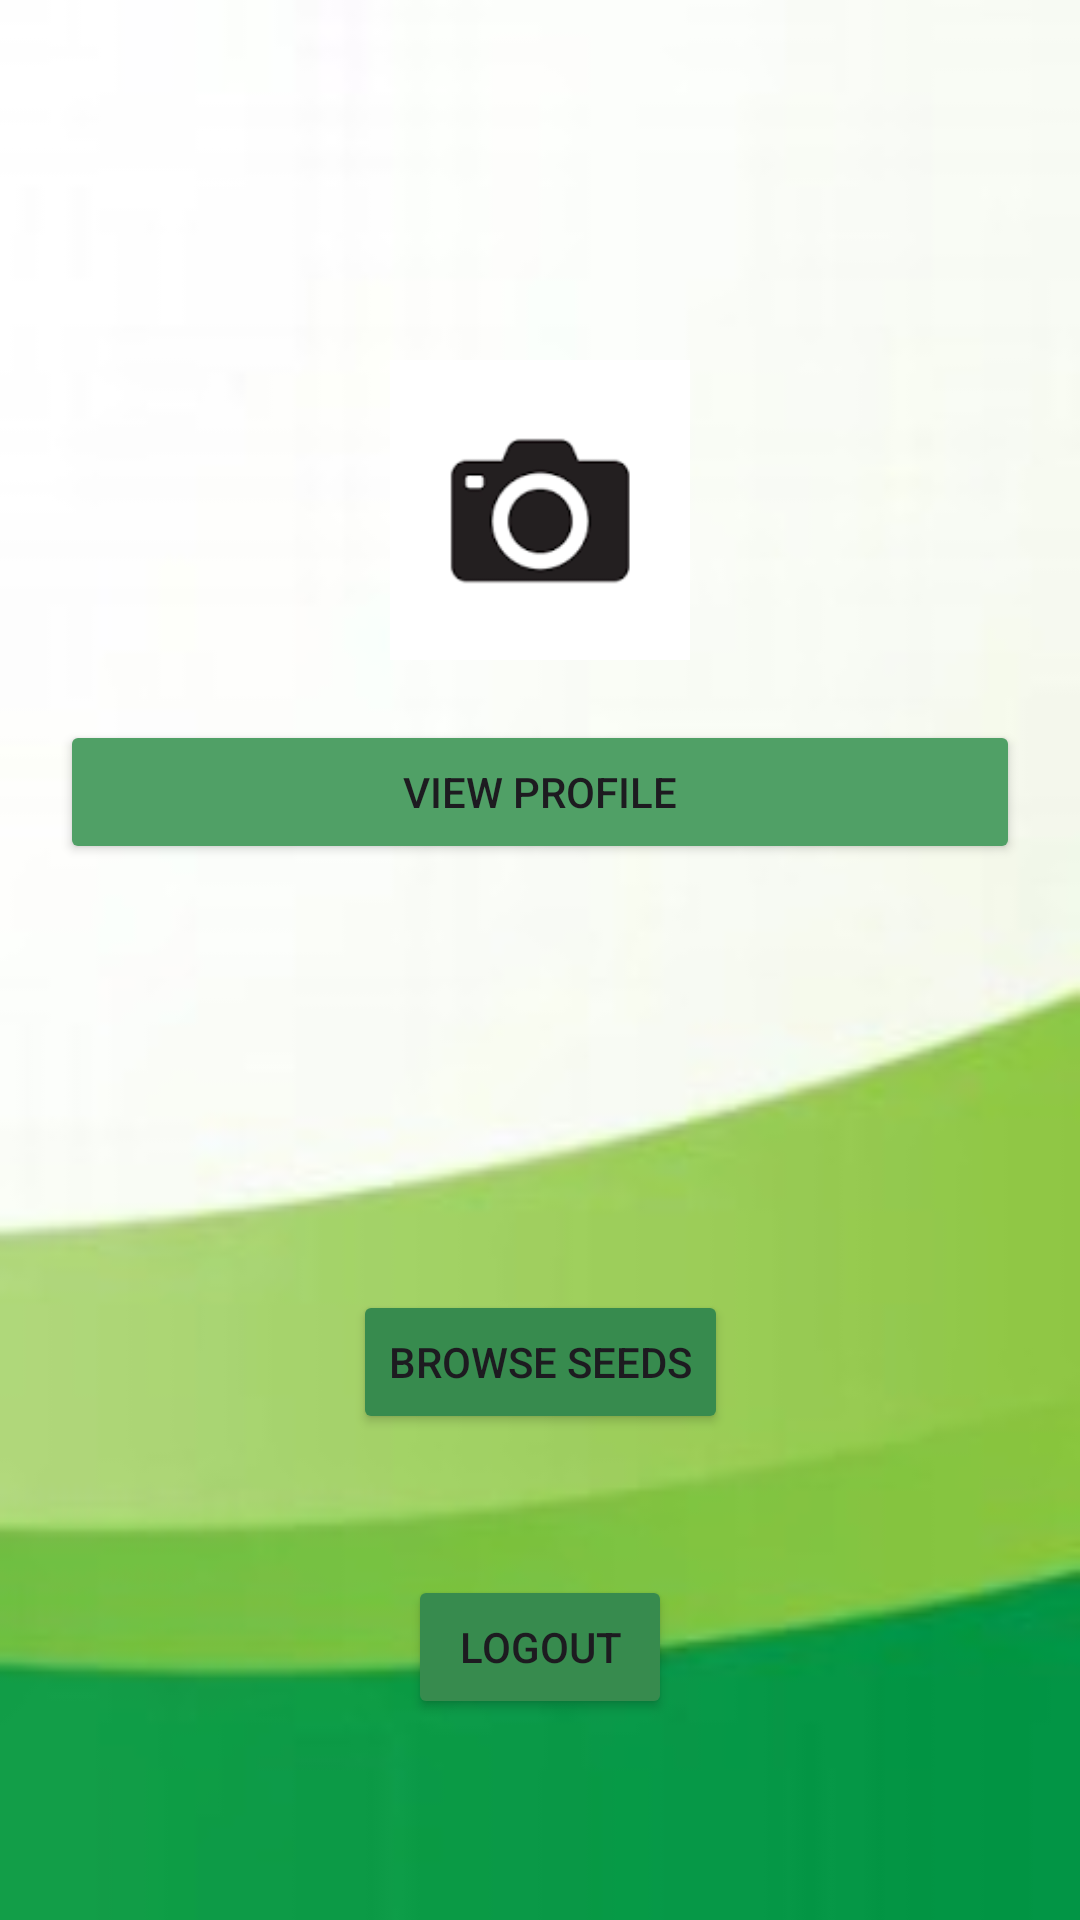

Locate icon controls on the screen. Image size 1080x1920, boxes as Rect(x1, y1, x2, y2).
camera: Rect(450, 438, 630, 583)
